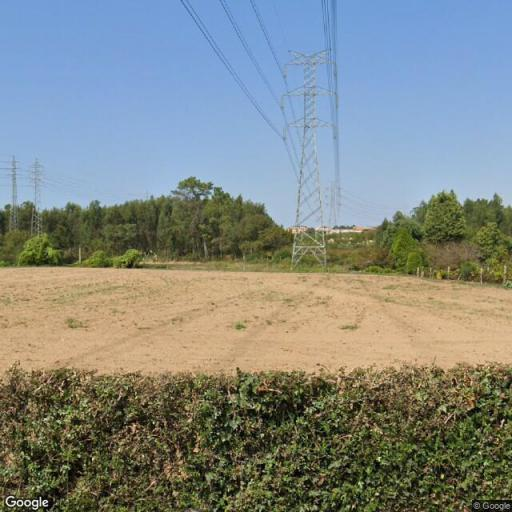ss_3: (277, 43, 341, 280), (2, 154, 24, 236), (28, 156, 46, 238), (322, 177, 344, 232)
